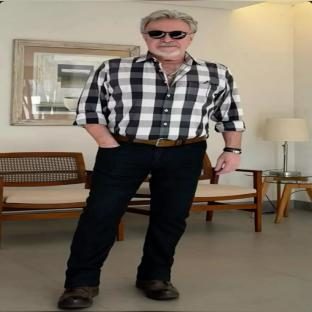Human: (58, 10, 245, 308)
